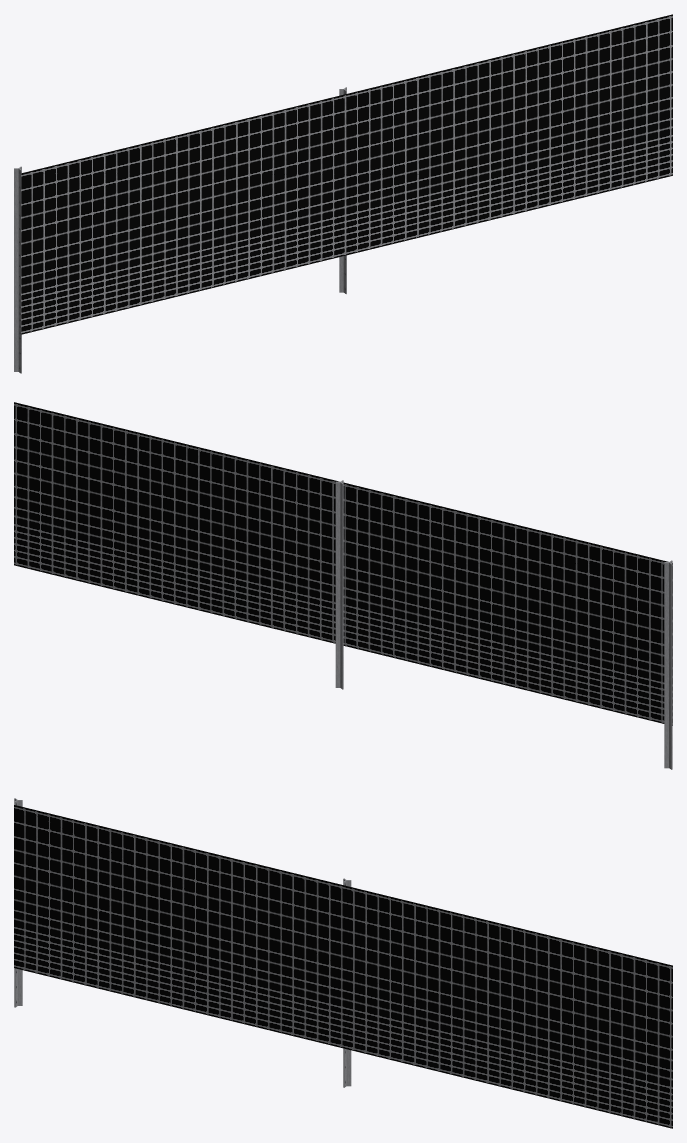
Rendered from fence-tall-mesh-2s-cbj_LOD00.gltf.
3 views of the same model, one above another, from view 1: azimuth 30°, elevation 25°; view 2: azimuth 150°, elevation 25°; view 3: azimuth 330°, elevation 25° (orthographic).
Parts seen in each view (by area): view 1: Cube; view 2: Cube; view 3: Cube.
Boxes of the visible parts, x1=… form: Cube: x1=14, y1=14, x2=672, y2=373; Cube: x1=14, y1=402, x2=672, y2=769; Cube: x1=14, y1=798, x2=672, y2=1128.
Bounding box in the file's own units: 7.86 × 2.33 × 0.0924.
